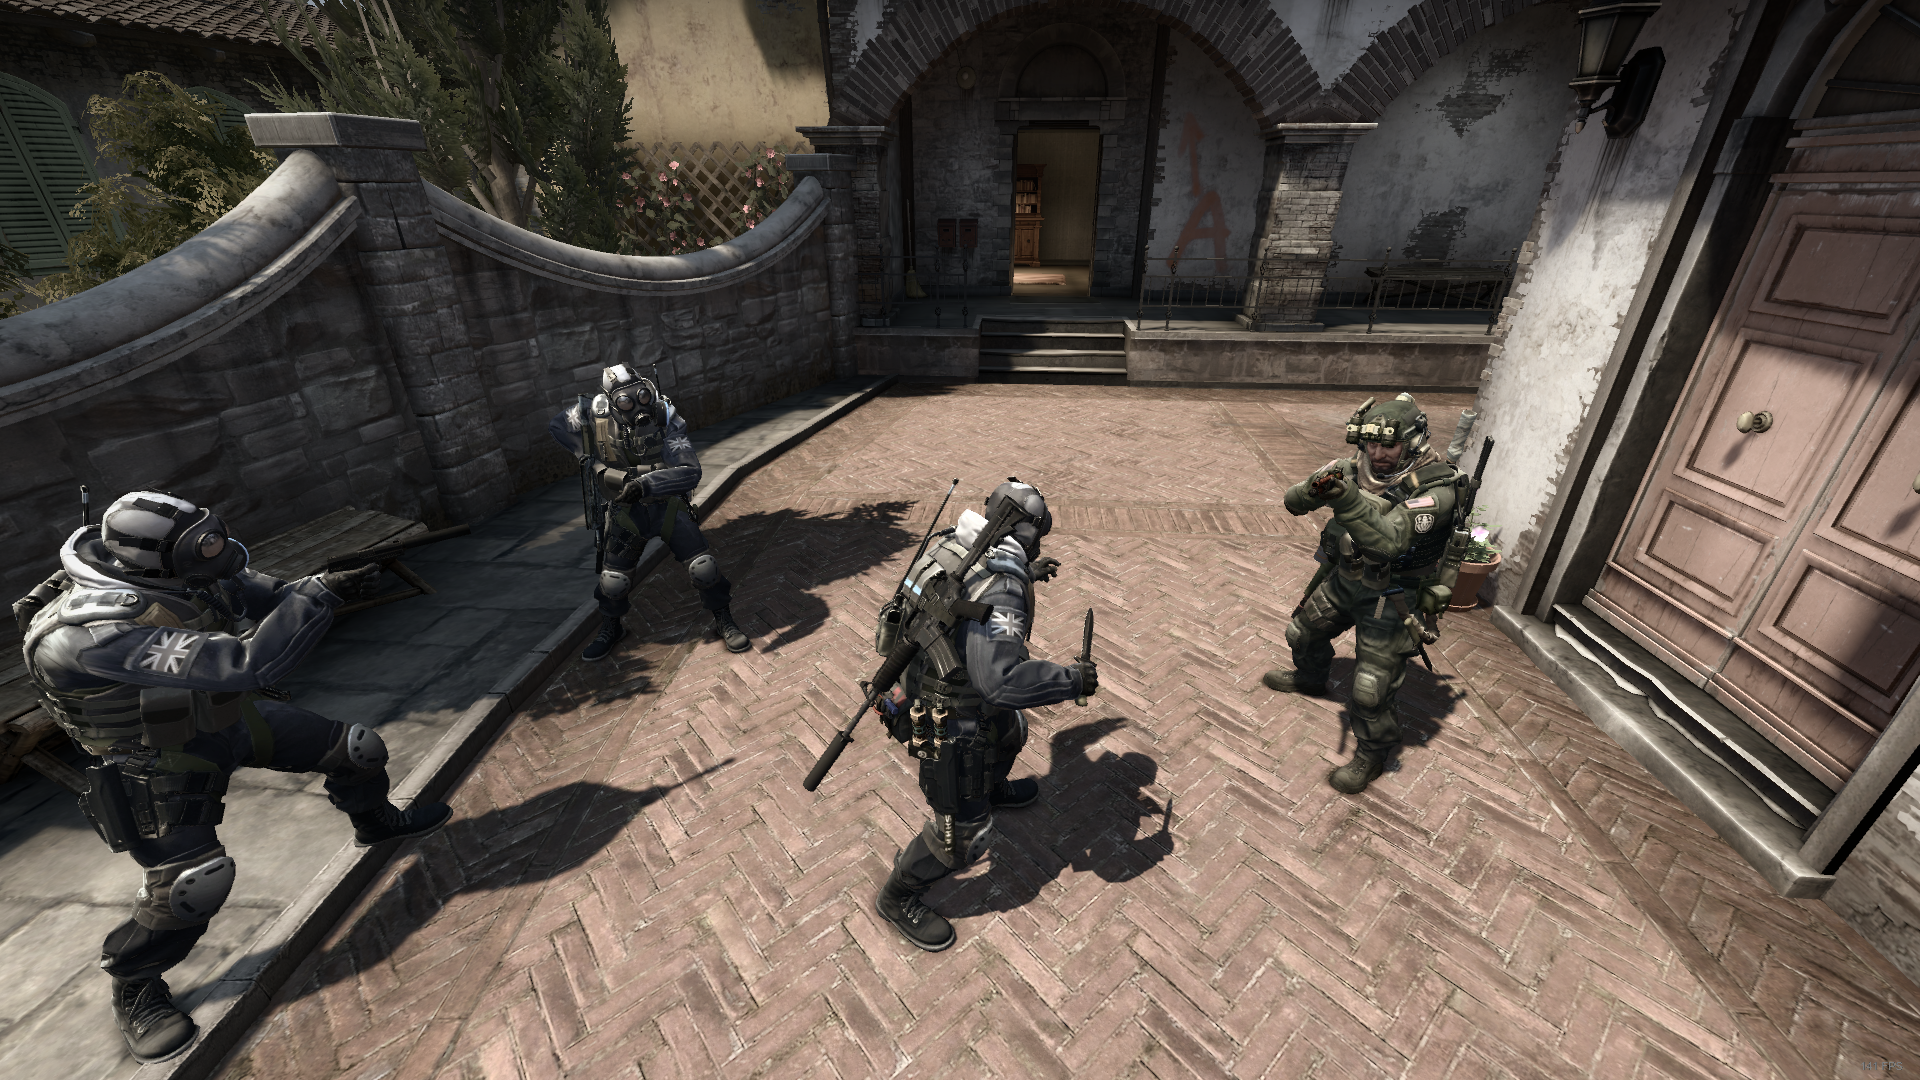ct: (21, 491, 452, 1073), (878, 479, 1100, 976), (549, 364, 756, 655)
